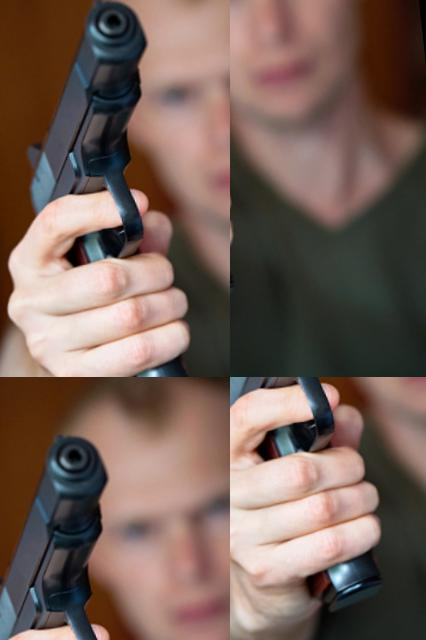handgun: (230, 377, 400, 629), (230, 0, 332, 131)
